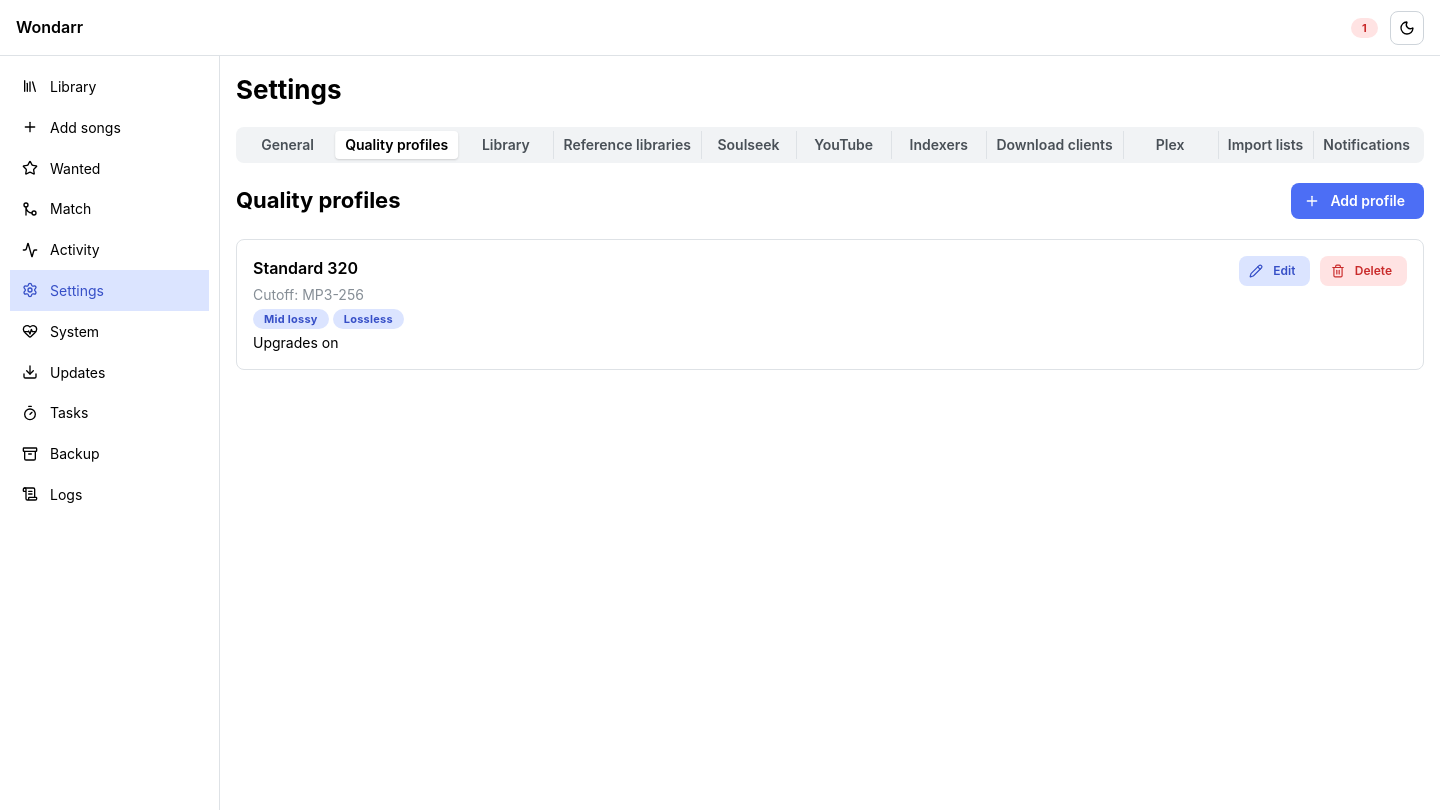
Scenario: QualityProfilesPage › drops the cutoff quality from the options when its group is unticked
Click the button "Edit" at [1275, 271], box [1239,256,1310,286]
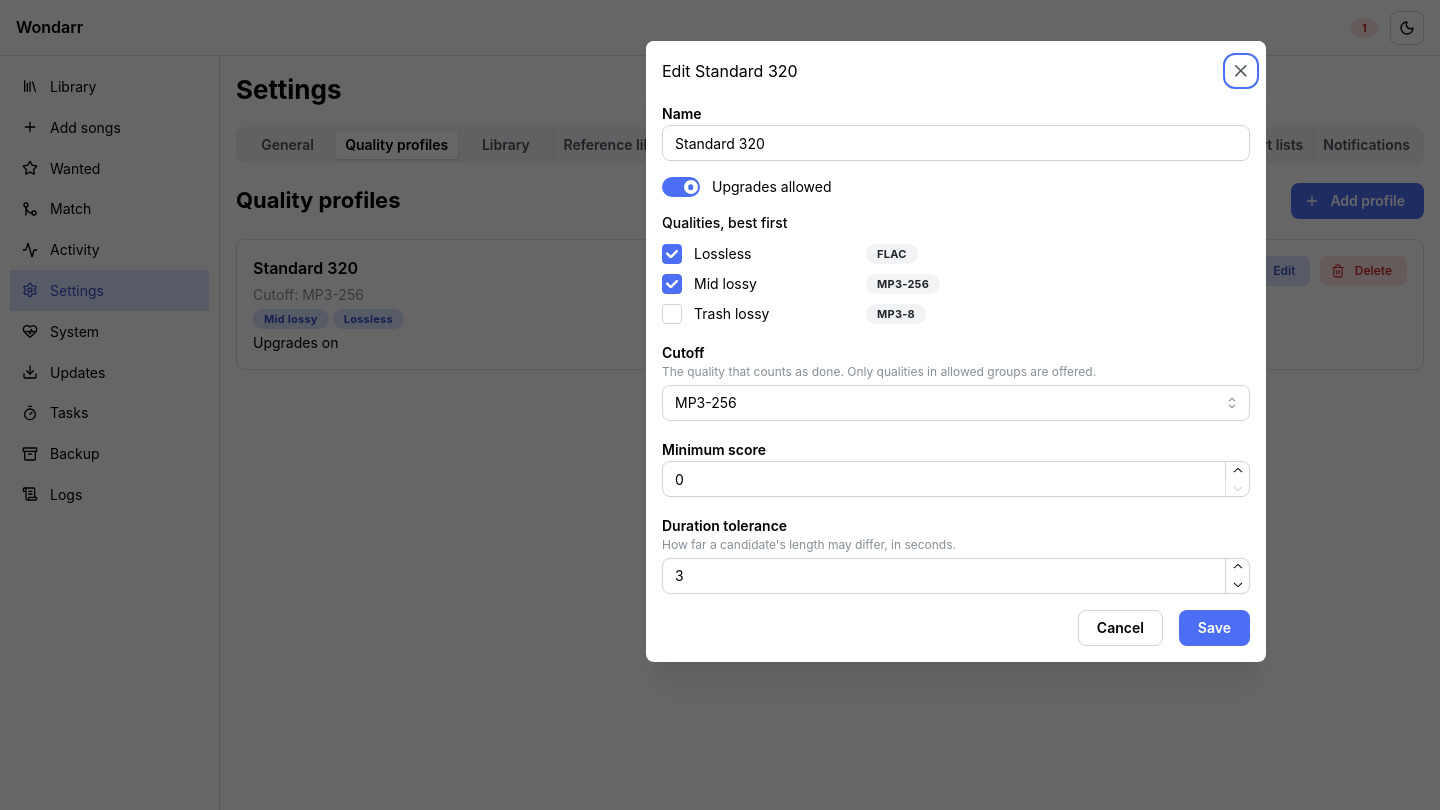
Click the checkbox named "Mid lossy allowed" at [672, 284], box [662,274,682,294]
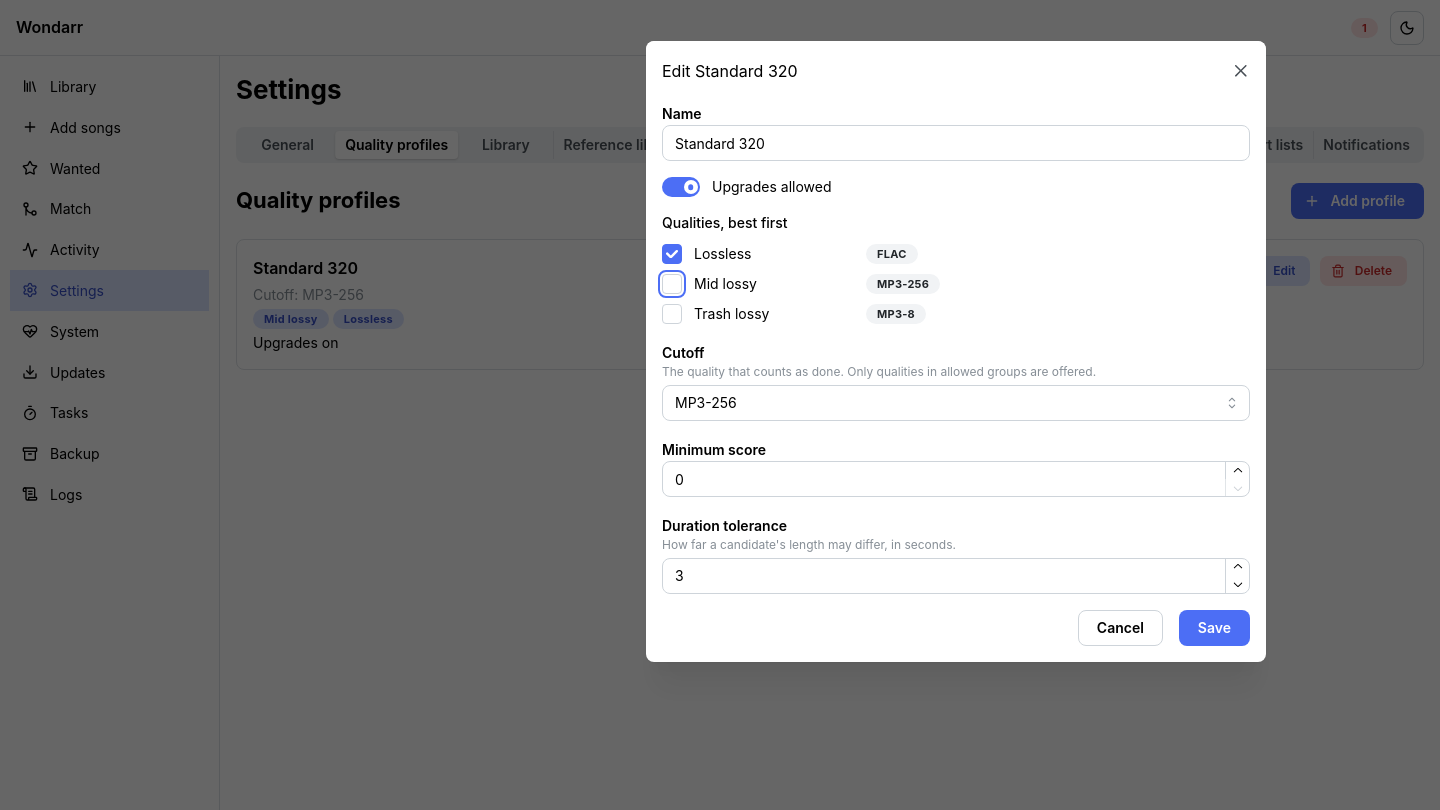
Click the dropdown labelled "Cutoff" at [956, 403], box [662,385,1250,421]
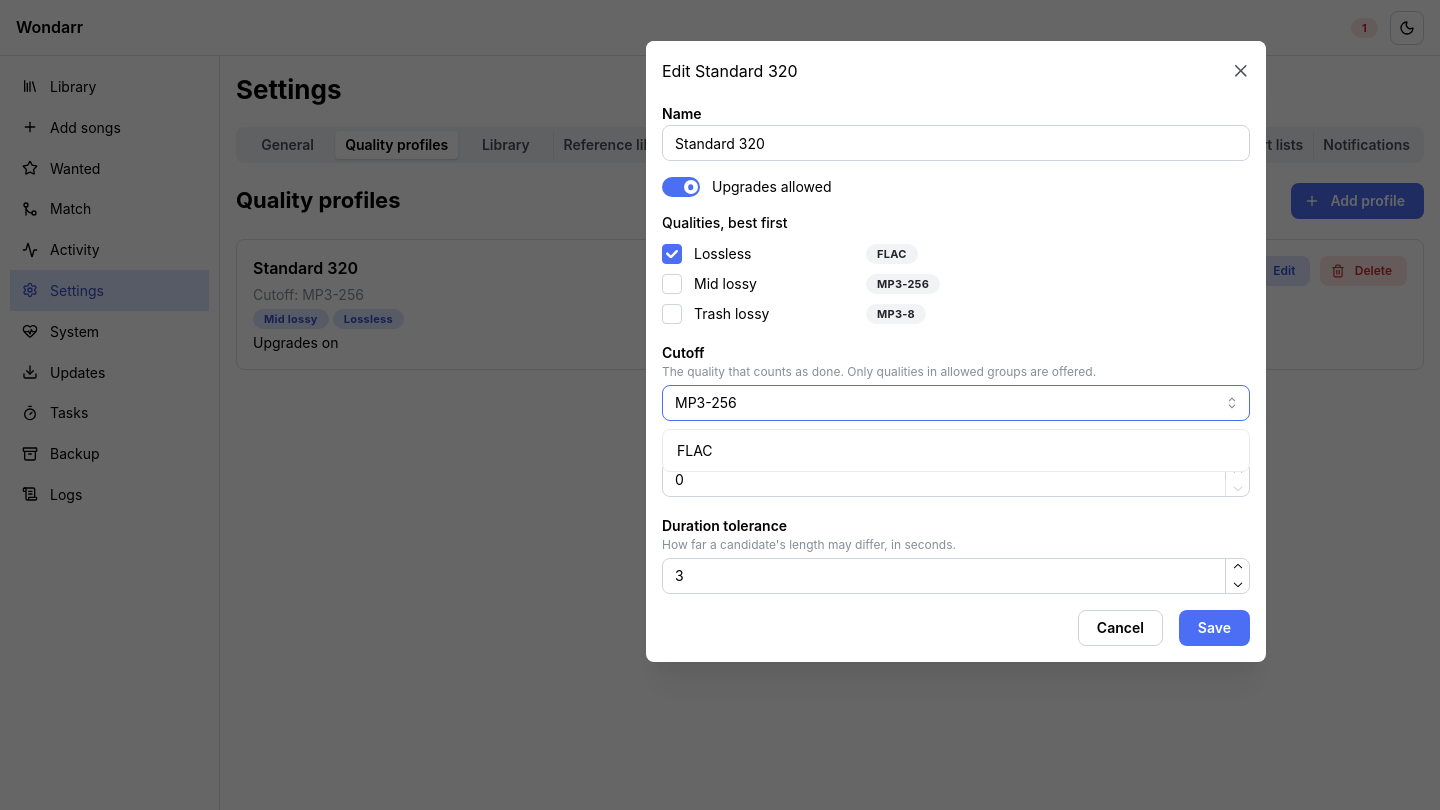
Expected: the 2nd text "FLAC" is shown, [677,440,713,461]
